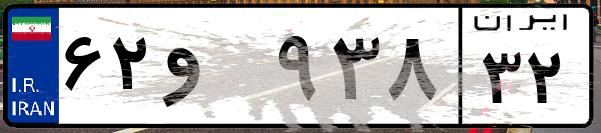2: (525, 38, 570, 115), (110, 28, 158, 98)
3: (330, 28, 385, 110), (475, 38, 525, 113)
6: (57, 26, 110, 100)
8: (385, 28, 445, 110)
9: (270, 28, 330, 110)
و: (158, 20, 270, 120)
